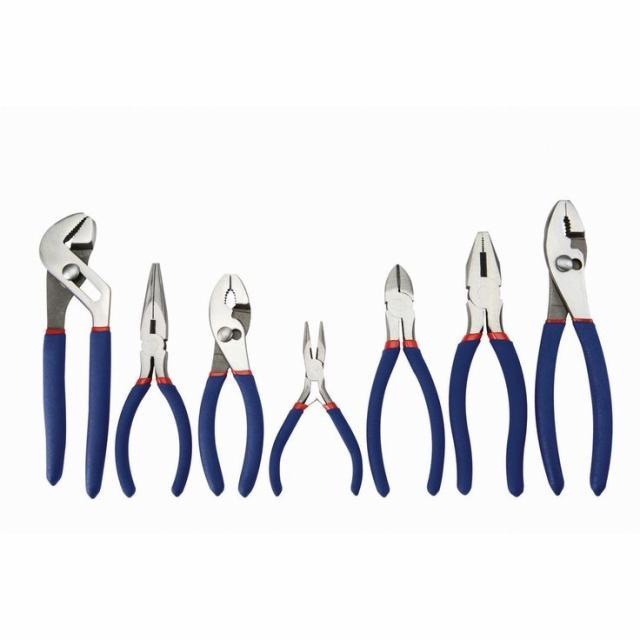pliers: (516, 195, 624, 504), (24, 206, 114, 502), (440, 226, 532, 504), (356, 260, 450, 502), (109, 258, 195, 507), (268, 316, 364, 504), (196, 268, 270, 506)
